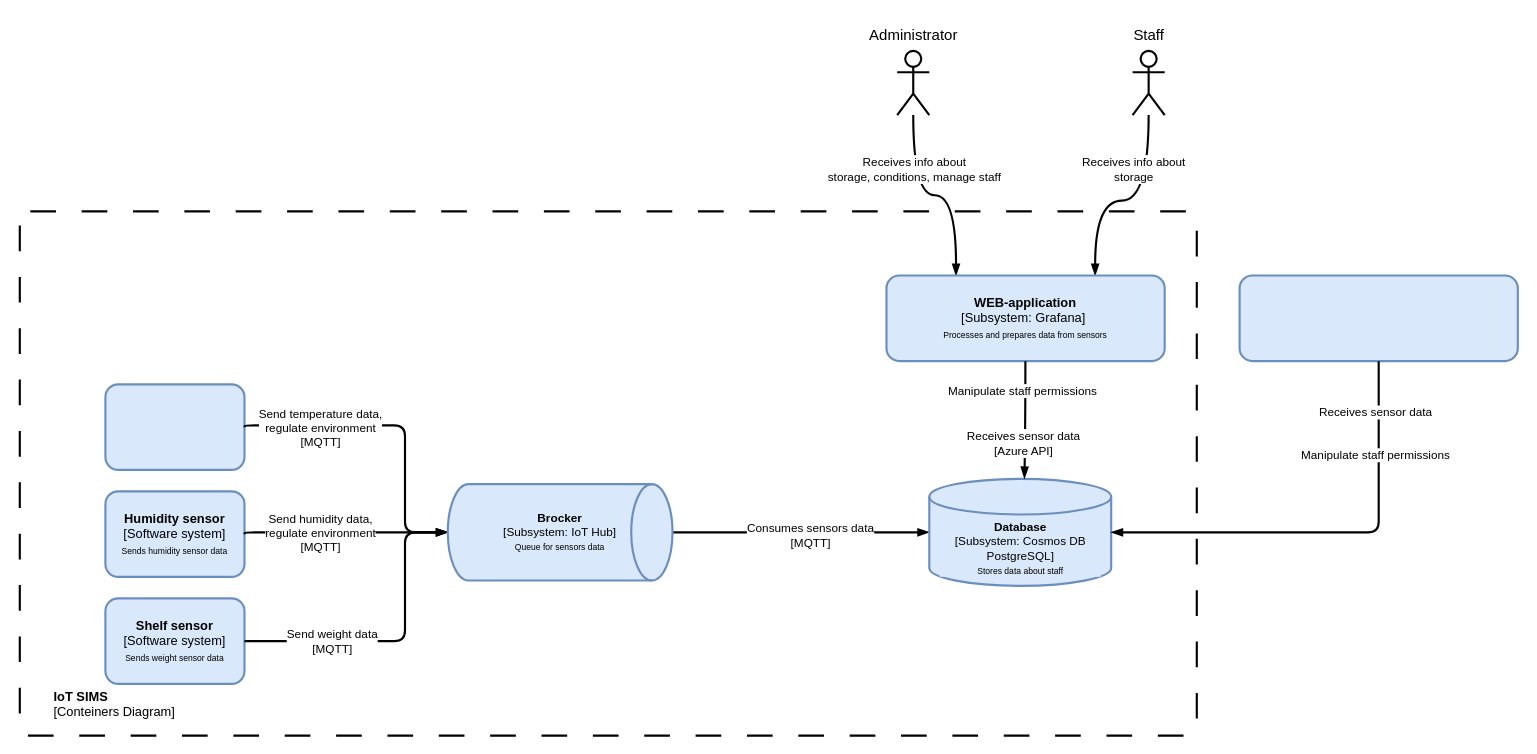
This 1537x754 diagram has some shape labels left out. The shapes that lost their labels are listed below. From the top down, each one's centre as x and y in pixels, then its label:
At (1378,318): "Backend [Subsystem: Rust] Processes and prepares data from sensors".
At (174,426): "Temperature sensor [Software system] Sends temperature sensor data".
